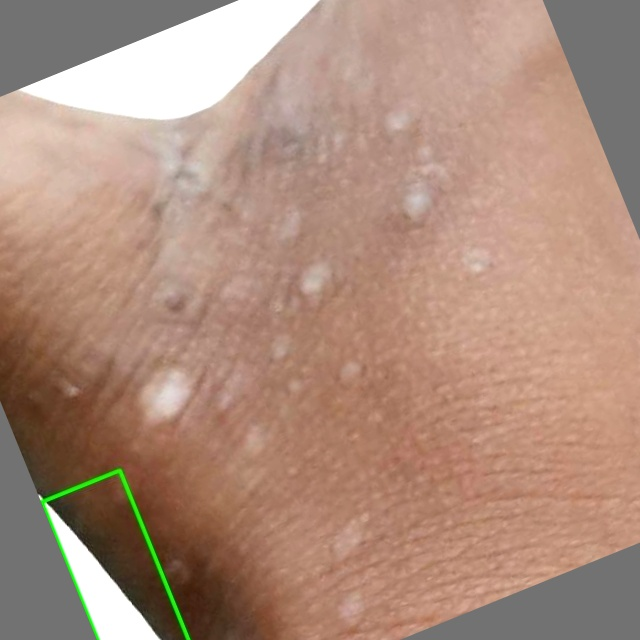Scabies: (41, 470, 188, 639)
